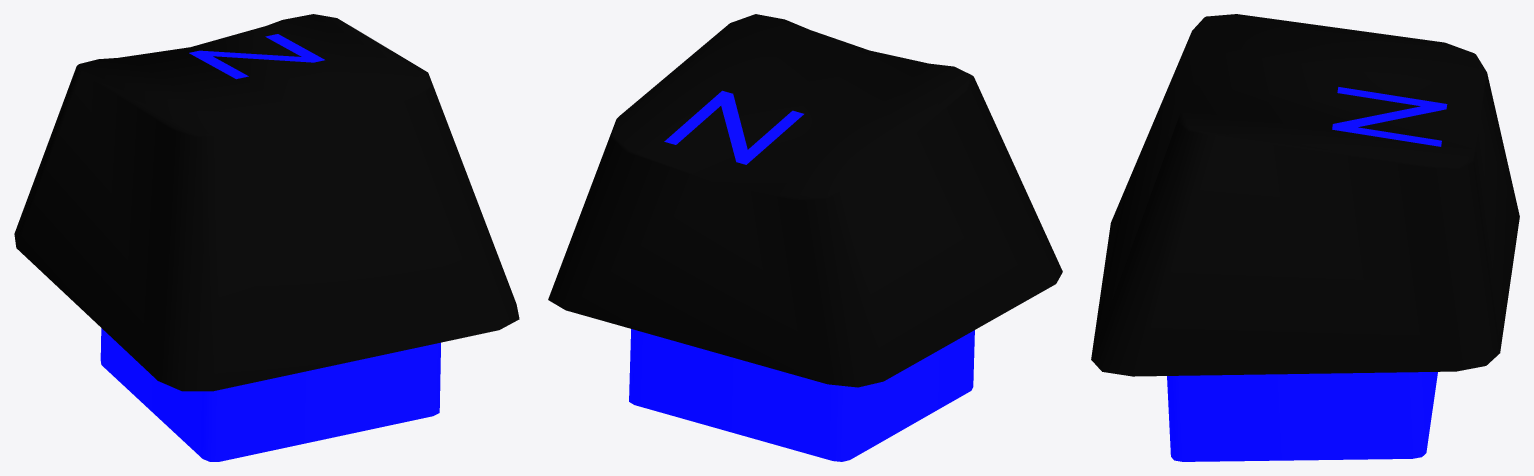
The model's file is n-B9rEC2XD.glb.
3 renders of one model, left to right at view 1: azimuth 30°, elevation 25°; view 2: azimuth 150°, elevation 25°; view 3: azimuth 270°, elevation 25°, orthographic. The views are drawn at different scales.
Parts seen in each view (by area): view 1: StudyShelf_1163; view 2: StudyShelf_1163; view 3: StudyShelf_1163.
Boxes of the visible parts, x1,y1,x2,y2 form: StudyShelf_1163: (14,14,519,461); StudyShelf_1163: (548,14,1062,461); StudyShelf_1163: (1091,14,1519,461).
Bounding box in the file's own units: 4.35 × 3.71 × 4.35.
